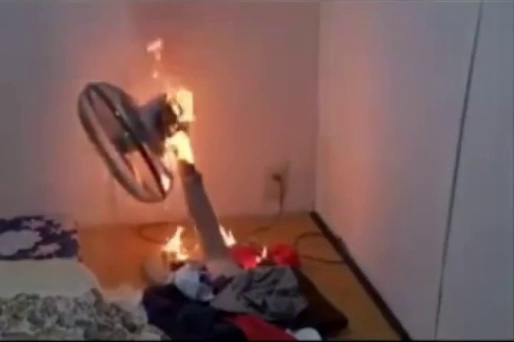fire: (154, 62, 203, 172)
